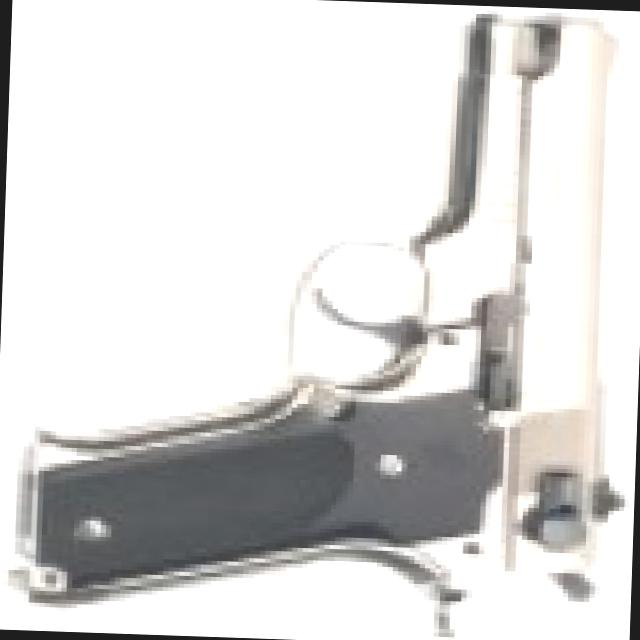handgun: (16, 0, 639, 632)
